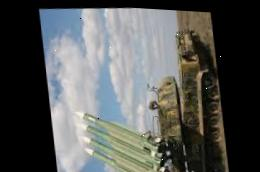rszo: (53, 16, 229, 172)
